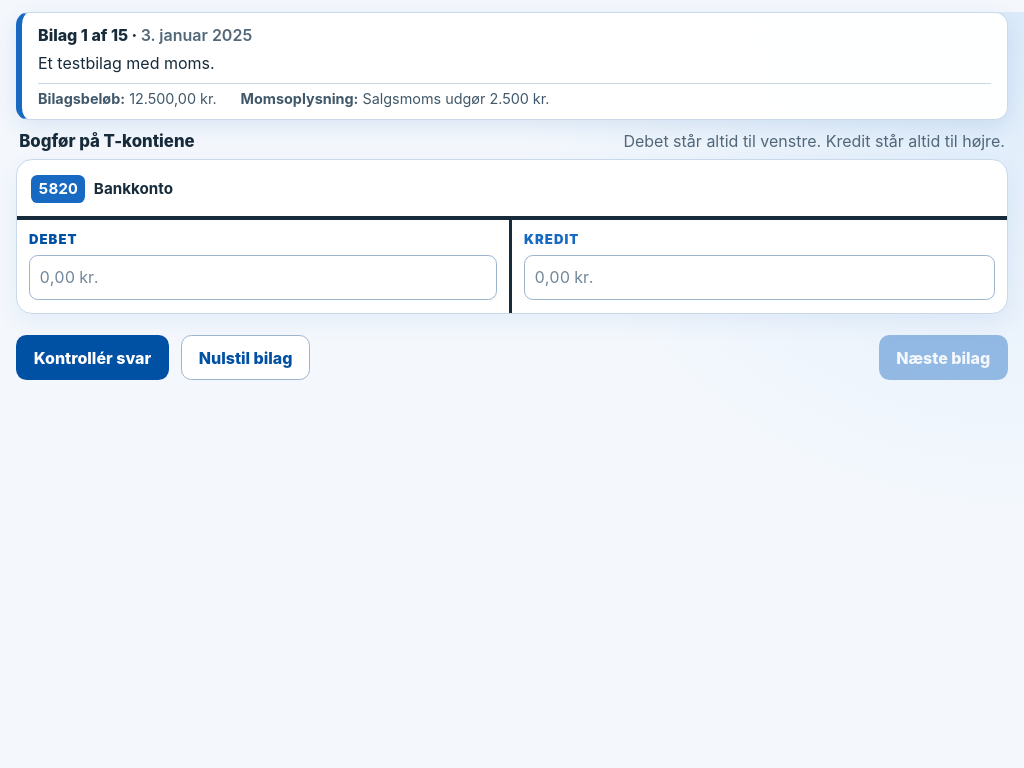
øvelsessiden › formaterer et uformateret beløb, når svaret kontrolleres
This screenshot has width=1024, height=768.
In the field labelled "Debet": (263, 277) [29,255,497,300], type "12500"
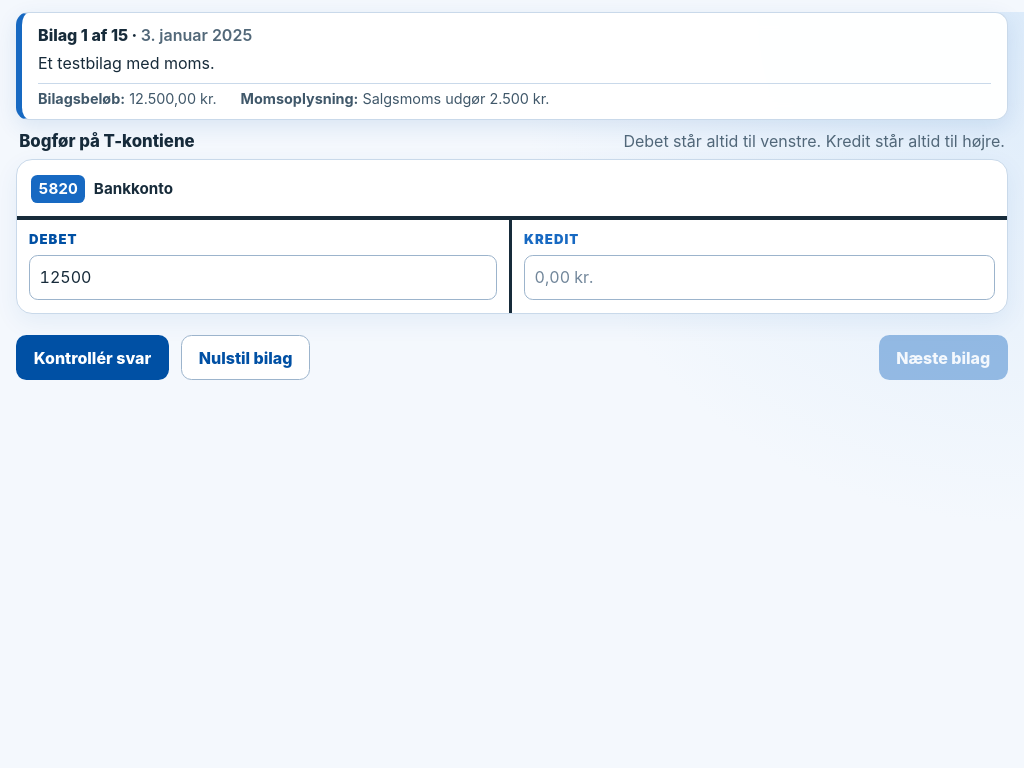
Click the button "Kontrollér svar": (92, 358) [16,335,169,380]
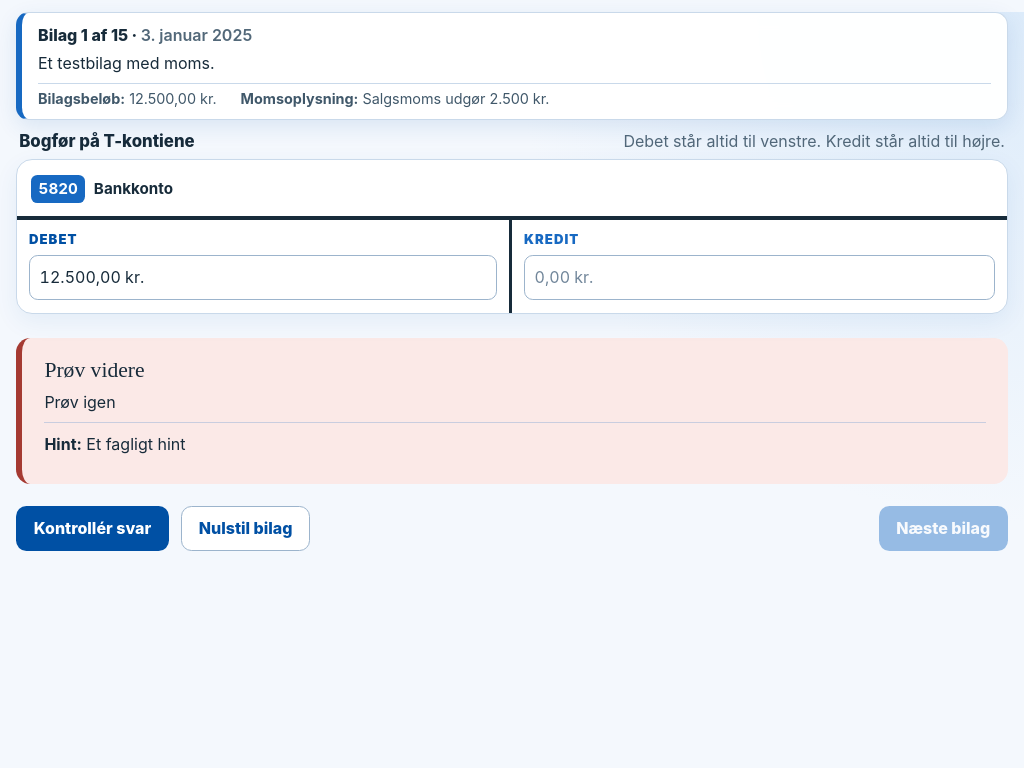
Result: the field labelled "Debet" holds "12.500,00 kr." at [29,255,497,300]
